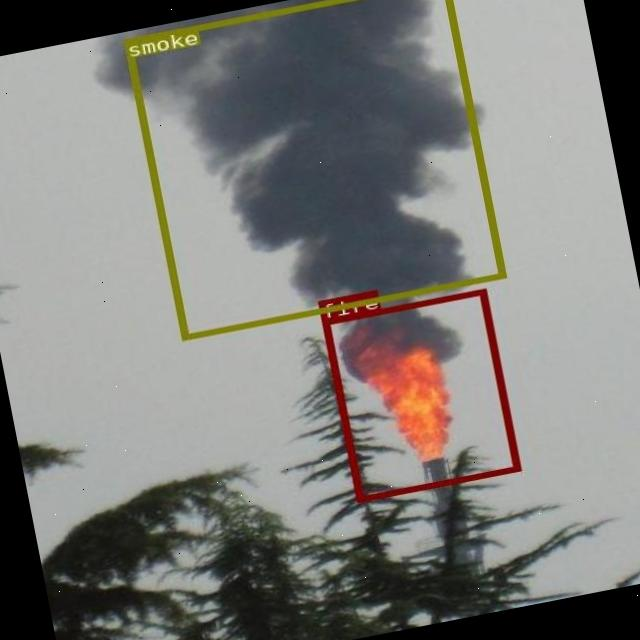fire: (321, 288, 519, 502)
smoke: (123, 0, 505, 339)
